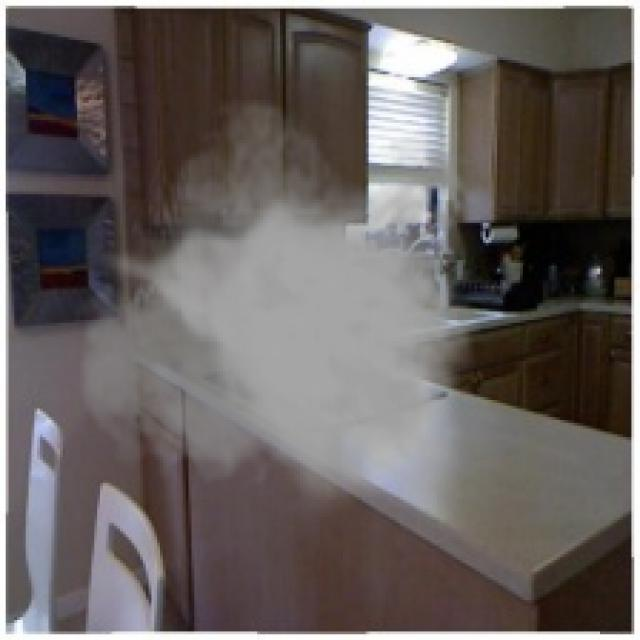smoke: (74, 100, 480, 517)
